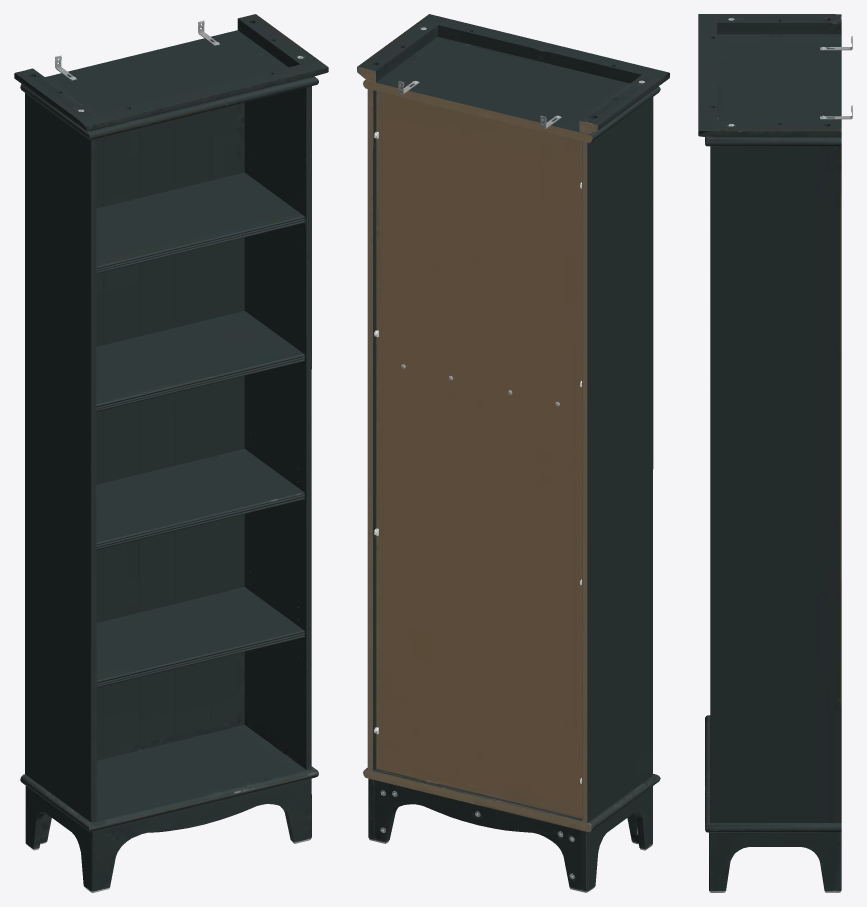
3 views of the same model, side by side, from view 1: azimuth 30°, elevation 25°; view 2: azimuth 150°, elevation 25°; view 3: azimuth 270°, elevation 25° (orthographic).
Parts seen in each view (by area): view 1: 40415465-LOMMARP001; view 2: 40415465-LOMMARP001; view 3: 40415465-LOMMARP001.
Part boxes in pixels (left/top/right/bottom): 40415465-LOMMARP001: left=14, top=14, right=328, bottom=892; 40415465-LOMMARP001: left=357, top=14, right=669, bottom=892; 40415465-LOMMARP001: left=698, top=14, right=852, bottom=892.
Size of the model in its own units: 0.65 by 1.99 by 0.3629.
Materials: 1 (1 with a texture image).
